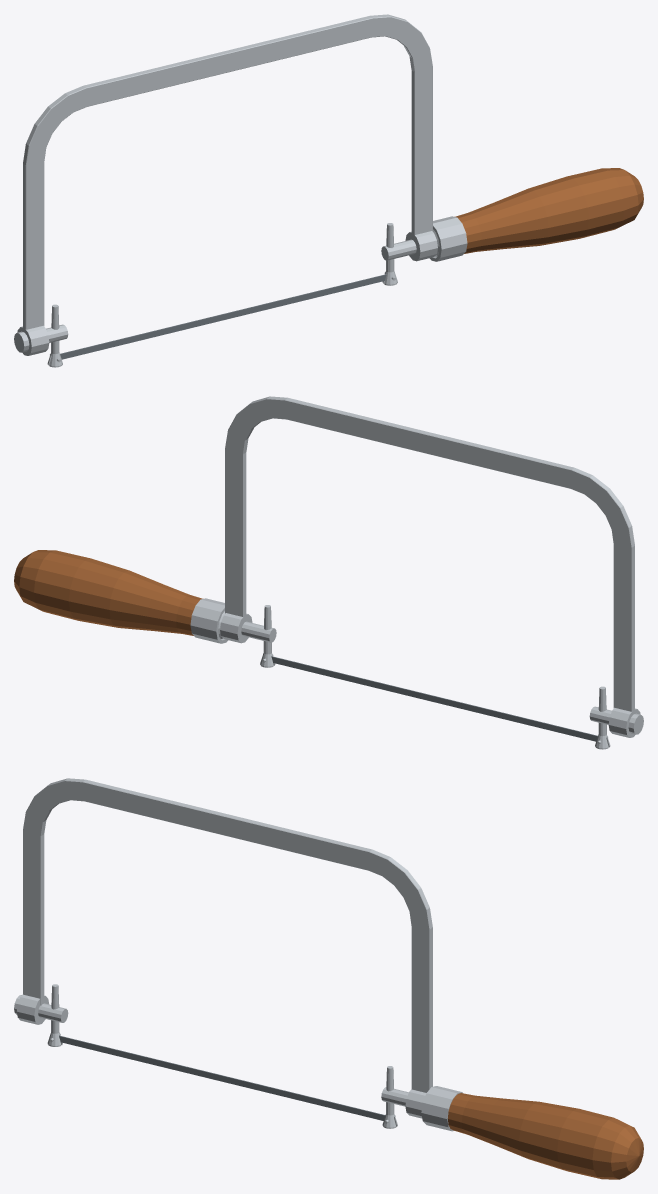
3 views of the same model, one above another, from view 1: azimuth 30°, elevation 25°; view 2: azimuth 150°, elevation 25°; view 3: azimuth 330°, elevation 25° (orthographic).
Parts seen in each view (by area): view 1: Flat_steel_U_frame, Turned_wood_handle_unbranded, Taut_blade_distant_silhouette, Handle_metal_ferrule, Right_rolled_frame_eye, Left_rolled_frame_eye, Right_tensioning_blade_holder_axle; view 2: Flat_steel_U_frame, Turned_wood_handle_unbranded, Taut_blade_distant_silhouette, Handle_metal_ferrule, Right_rolled_frame_eye, Left_rolled_frame_eye, Right_tensioning_blade_holder_axle; view 3: Flat_steel_U_frame, Turned_wood_handle_unbranded, Taut_blade_distant_silhouette, Handle_metal_ferrule, Left_rolled_frame_eye.
Part boxes in pixels (x1,y1,x2,y2): Flat_steel_U_frame: [23, 14, 432, 329]; Turned_wood_handle_unbranded: [455, 168, 643, 253]; Taut_blade_distant_silhouette: [60, 274, 386, 359]; Handle_metal_ferrule: [429, 216, 467, 261]; Right_rolled_frame_eye: [405, 231, 437, 261]; Left_rolled_frame_eye: [17, 325, 49, 355]; Right_tensioning_blade_holder_axle: [381, 239, 416, 260]; Flat_steel_U_frame: [225, 396, 634, 711]; Turned_wood_handle_unbranded: [14, 550, 202, 635]; Taut_blade_distant_silhouette: [271, 656, 597, 741]; Handle_metal_ferrule: [190, 598, 228, 643]; Right_rolled_frame_eye: [220, 613, 252, 643]; Left_rolled_frame_eye: [608, 707, 640, 737]; Right_tensioning_blade_holder_axle: [241, 621, 276, 642]; Flat_steel_U_frame: [23, 778, 432, 1092]; Turned_wood_handle_unbranded: [447, 1093, 643, 1179]; Taut_blade_distant_silhouette: [59, 1035, 385, 1120]; Handle_metal_ferrule: [421, 1086, 462, 1131]; Left_rolled_frame_eye: [16, 994, 49, 1024].
Size of the model in its own units: 0.3 by 0.125 by 0.0268.
